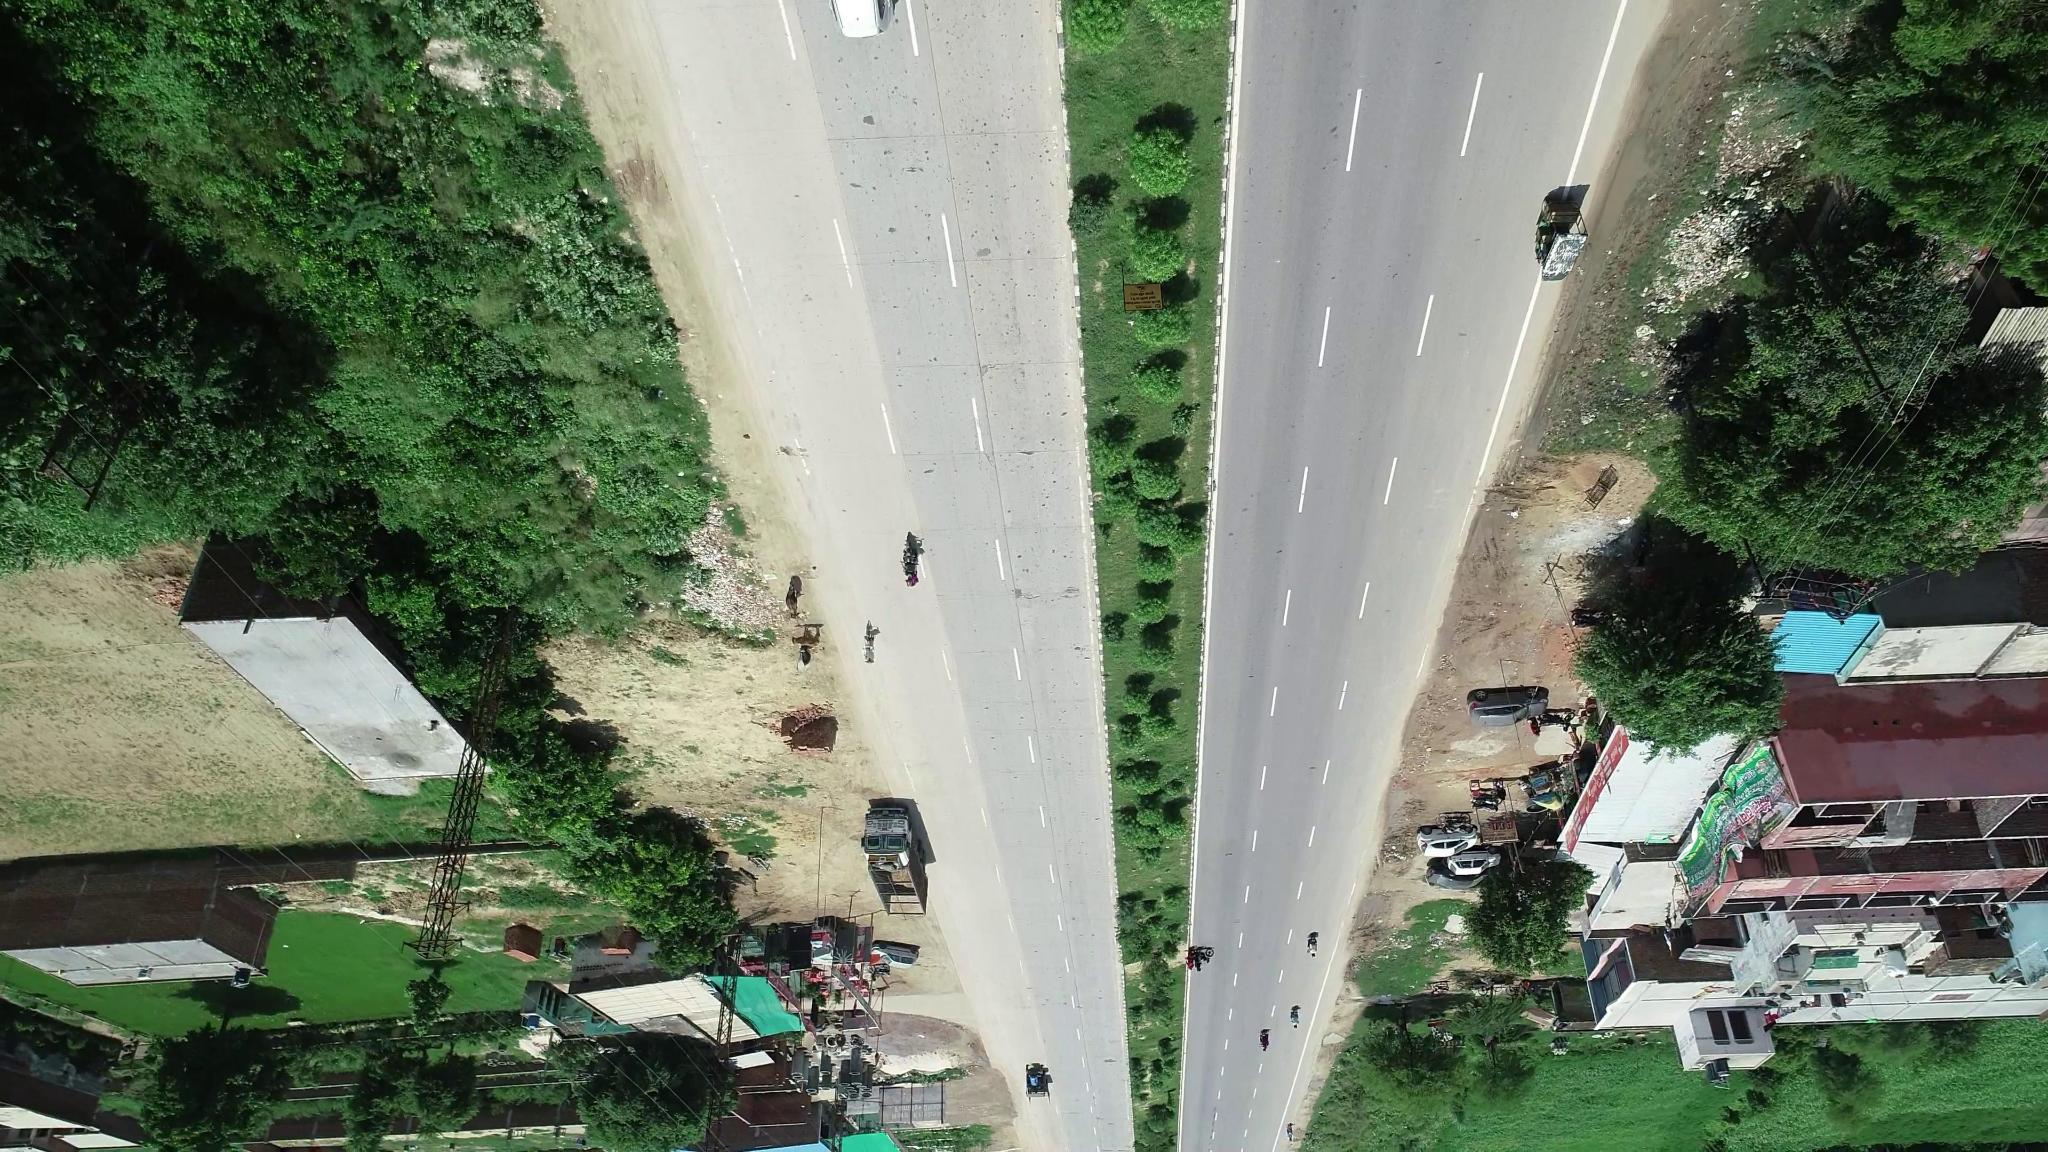Road_side_garbage: (686, 527, 774, 632)
